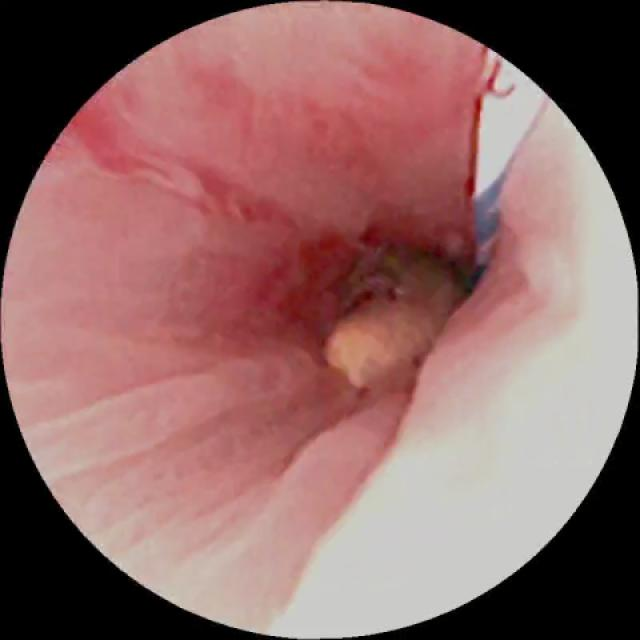stone: (326, 246, 458, 387)
tissue: (8, 21, 622, 631)
